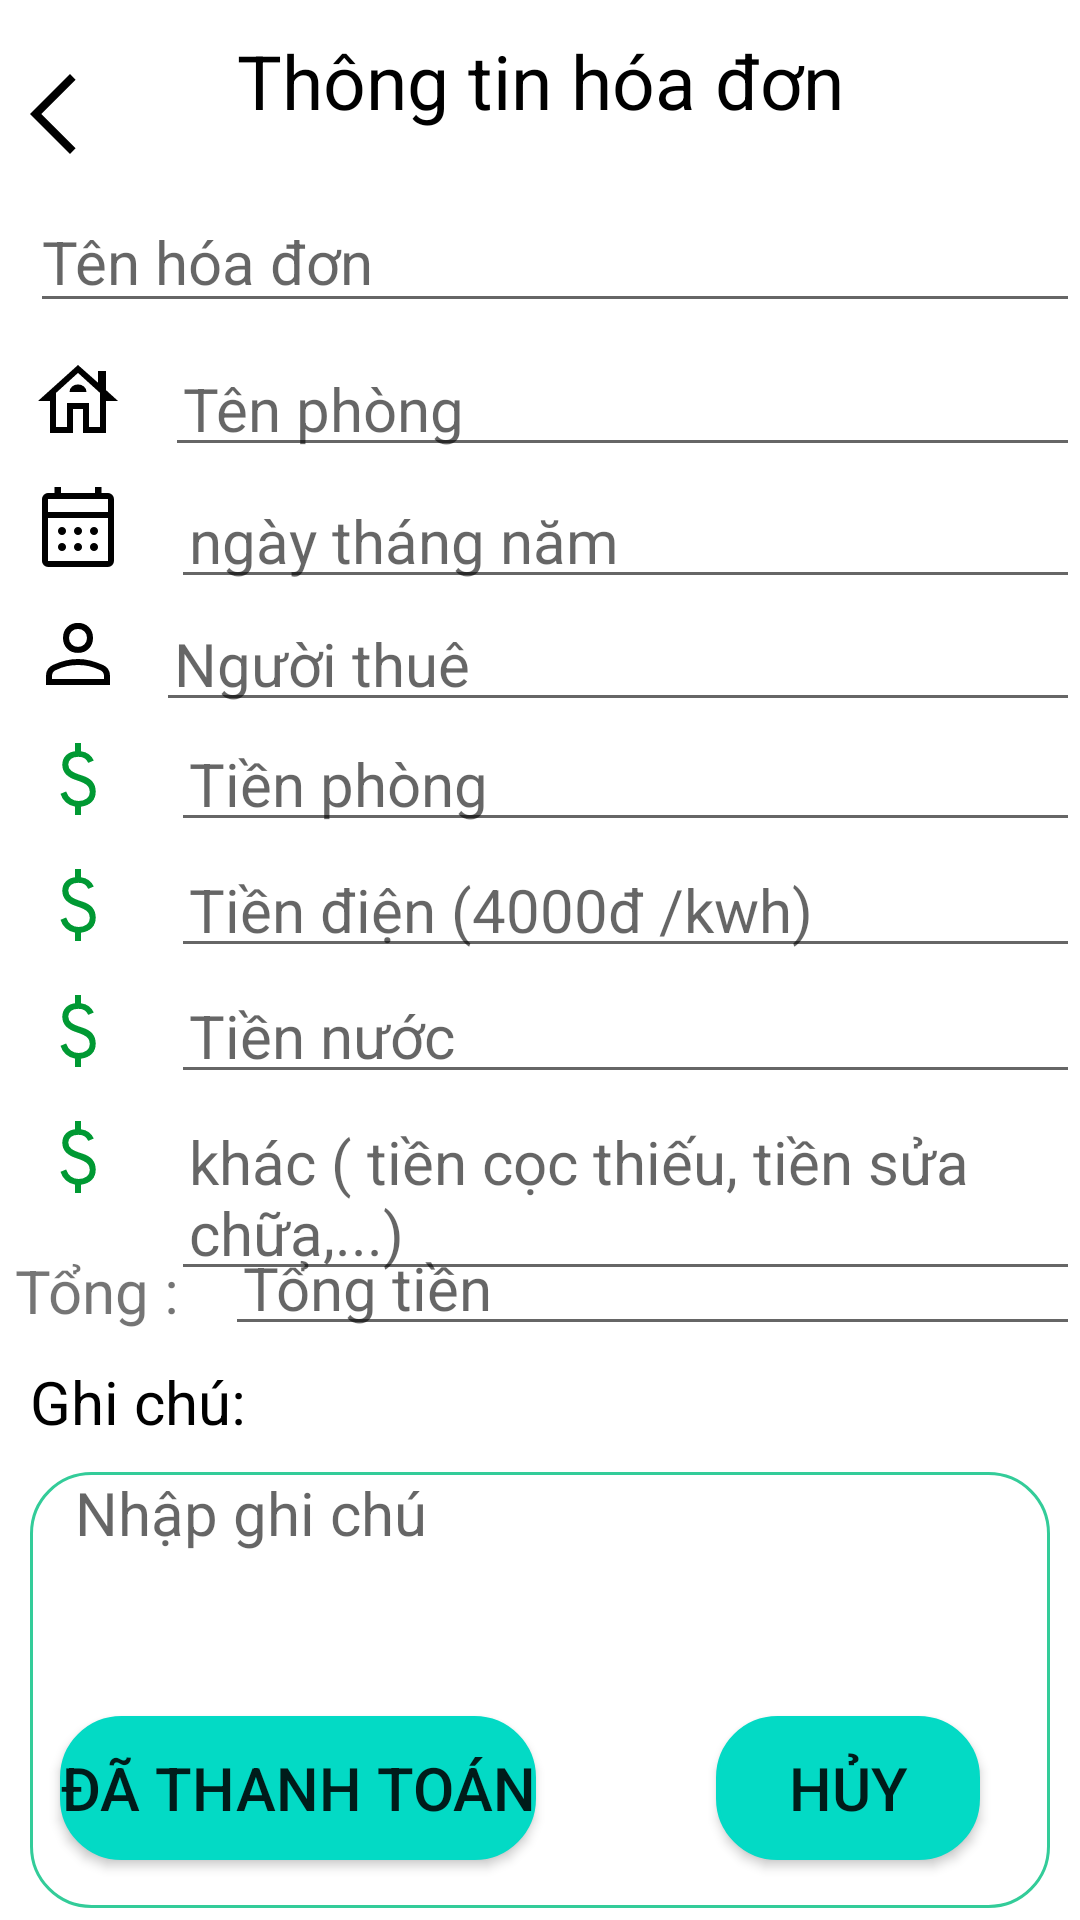

Icon bounding boxes for this 1080px×1920px phone screenshot, format (x1, y1, x2, y2):
arrow back: (30, 74, 76, 154)
calendar: (42, 487, 114, 567)
nguoitao: (46, 623, 110, 685)
phong: (38, 365, 118, 433)
tien coc: (60, 743, 96, 815), (60, 869, 96, 941), (60, 995, 96, 1067), (60, 1121, 96, 1193)
